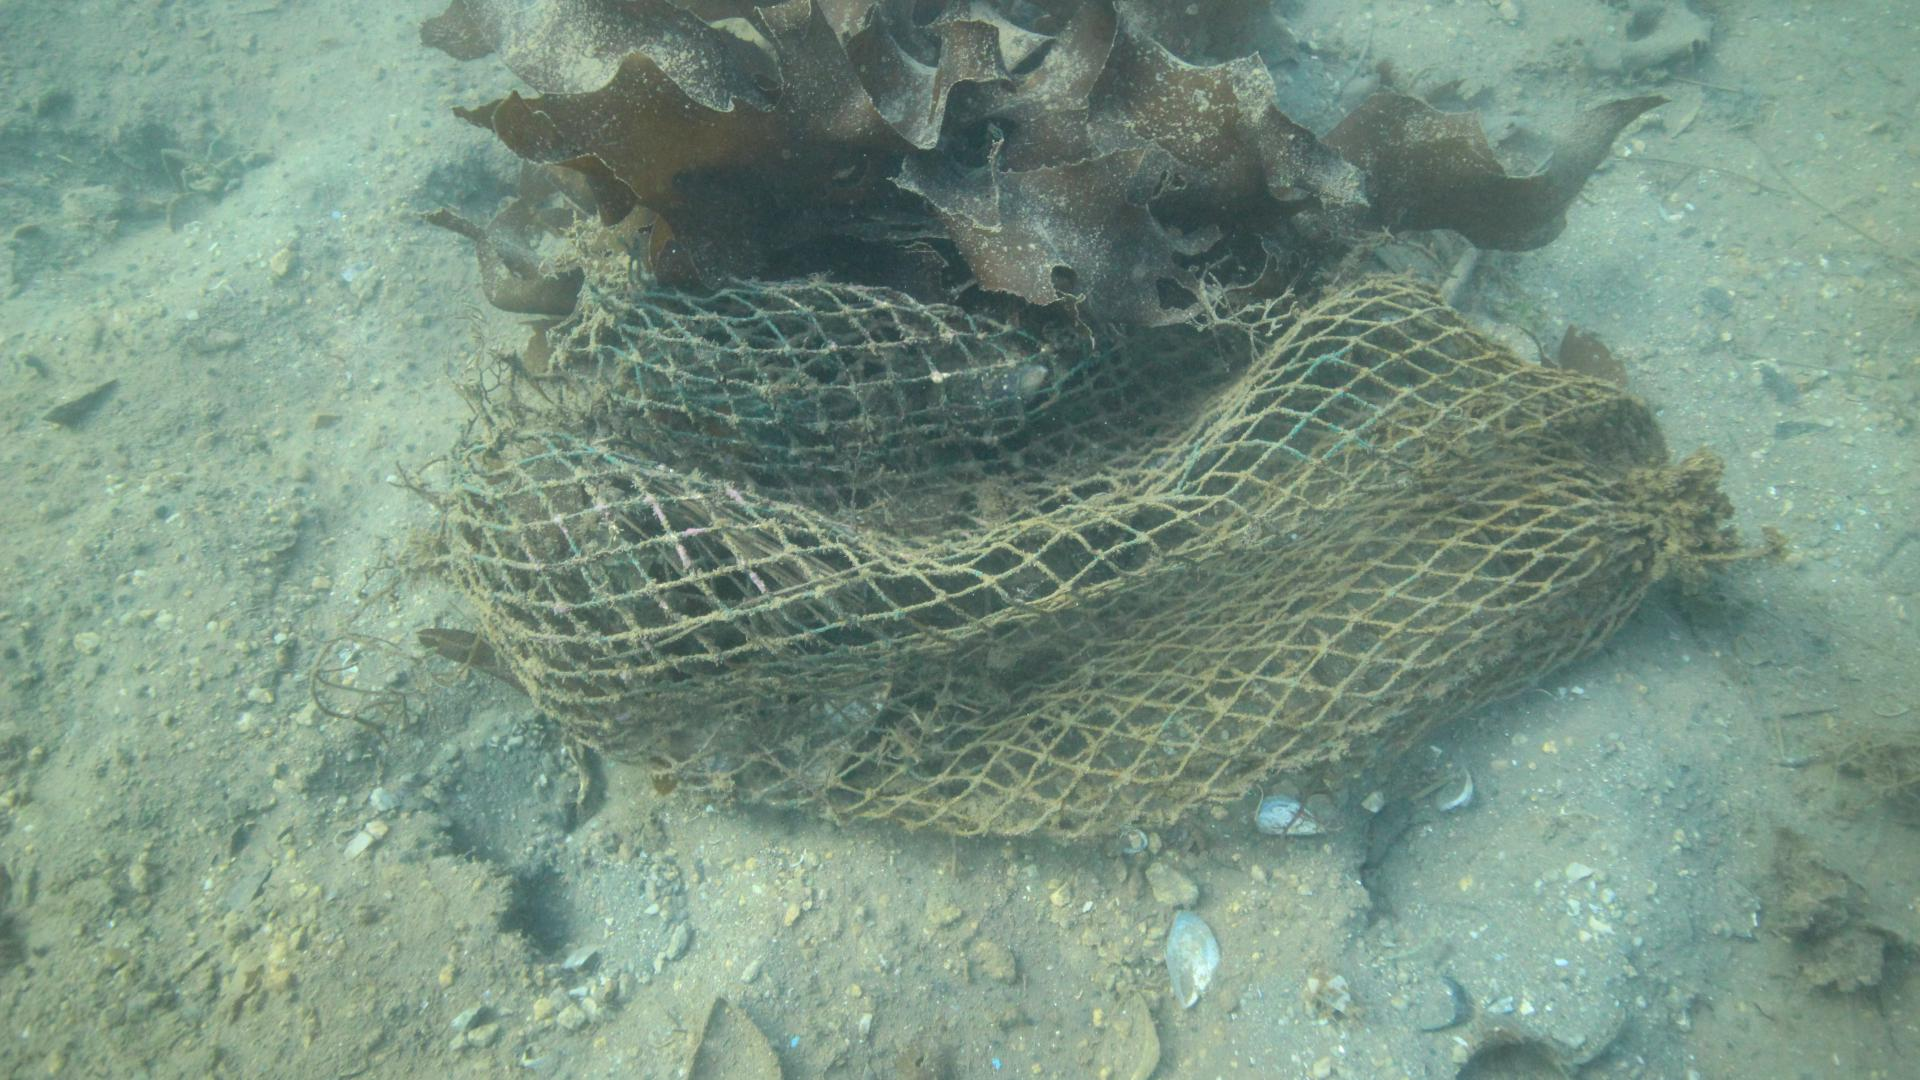fish net: (444, 276, 1665, 855)
